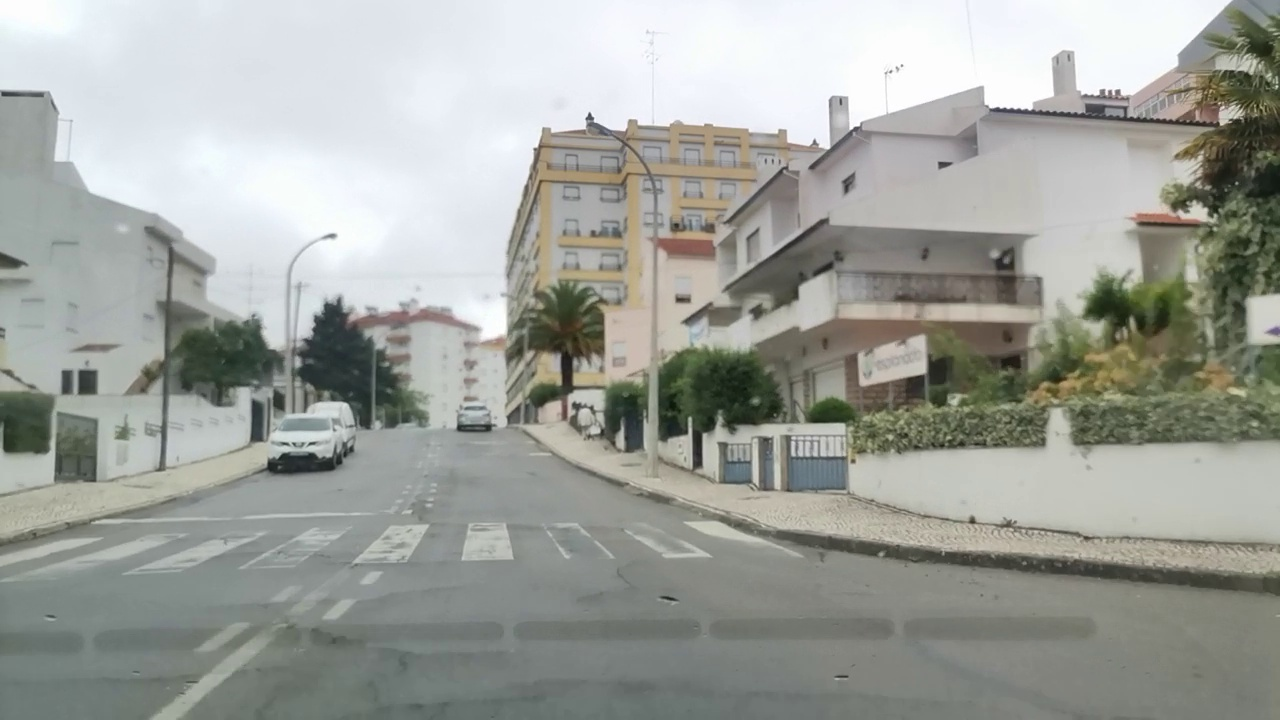Stairs: (0, 519, 808, 583)
